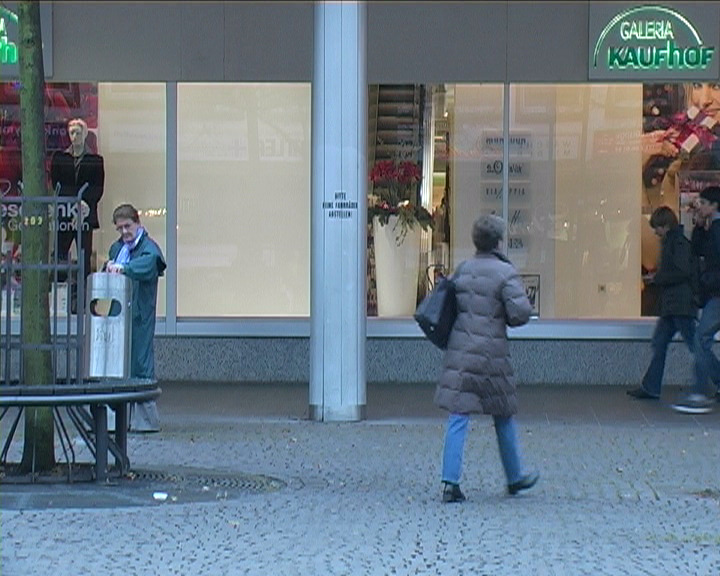deflection: (99, 199, 170, 307)
